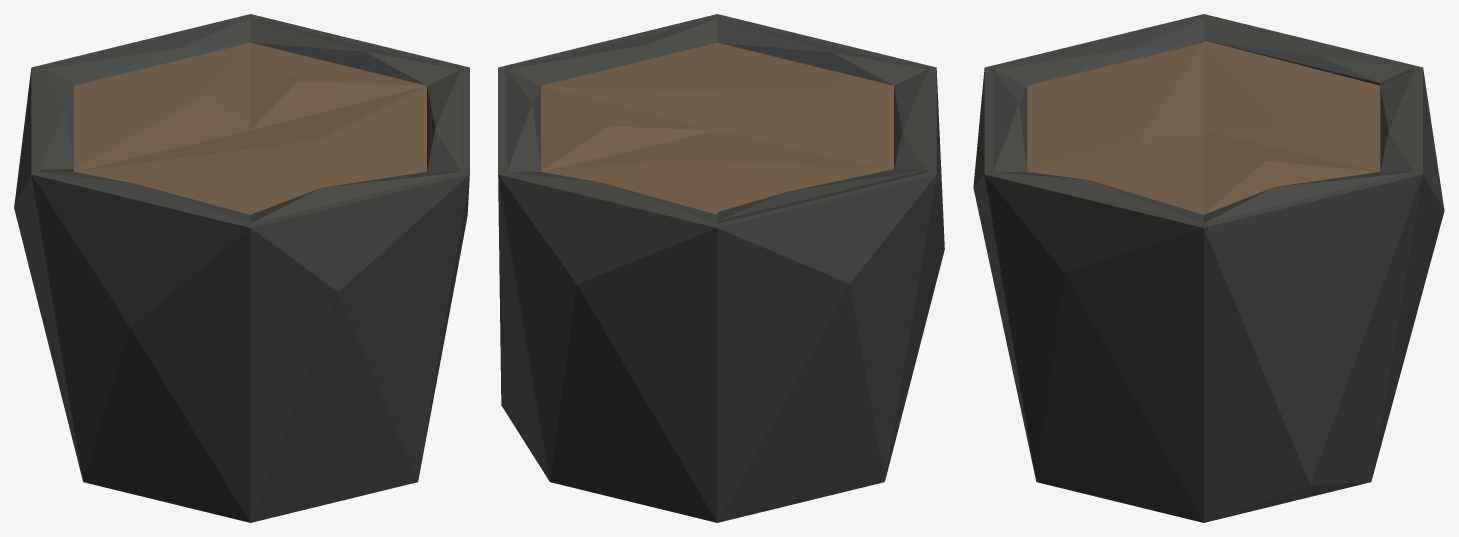
The model's file is objWeedLevel01.fbx.
The picture shows the model from 3 angles, left to right: view 1: azimuth 30°, elevation 25°; view 2: azimuth 150°, elevation 25°; view 3: azimuth 270°, elevation 25°; orthographic projection.
Visible parts, largest first — view 1: objWeedLevel01; view 2: objWeedLevel01; view 3: objWeedLevel01.
Part boxes in pixels (box(x1,y1,x2,y2)): objWeedLevel01: box(14, 14, 469, 522); objWeedLevel01: box(498, 14, 944, 522); objWeedLevel01: box(973, 14, 1444, 522).
Bounding box in the file's own units: 0.2762 × 0.197 × 0.257.
1 material, 1 textured.
